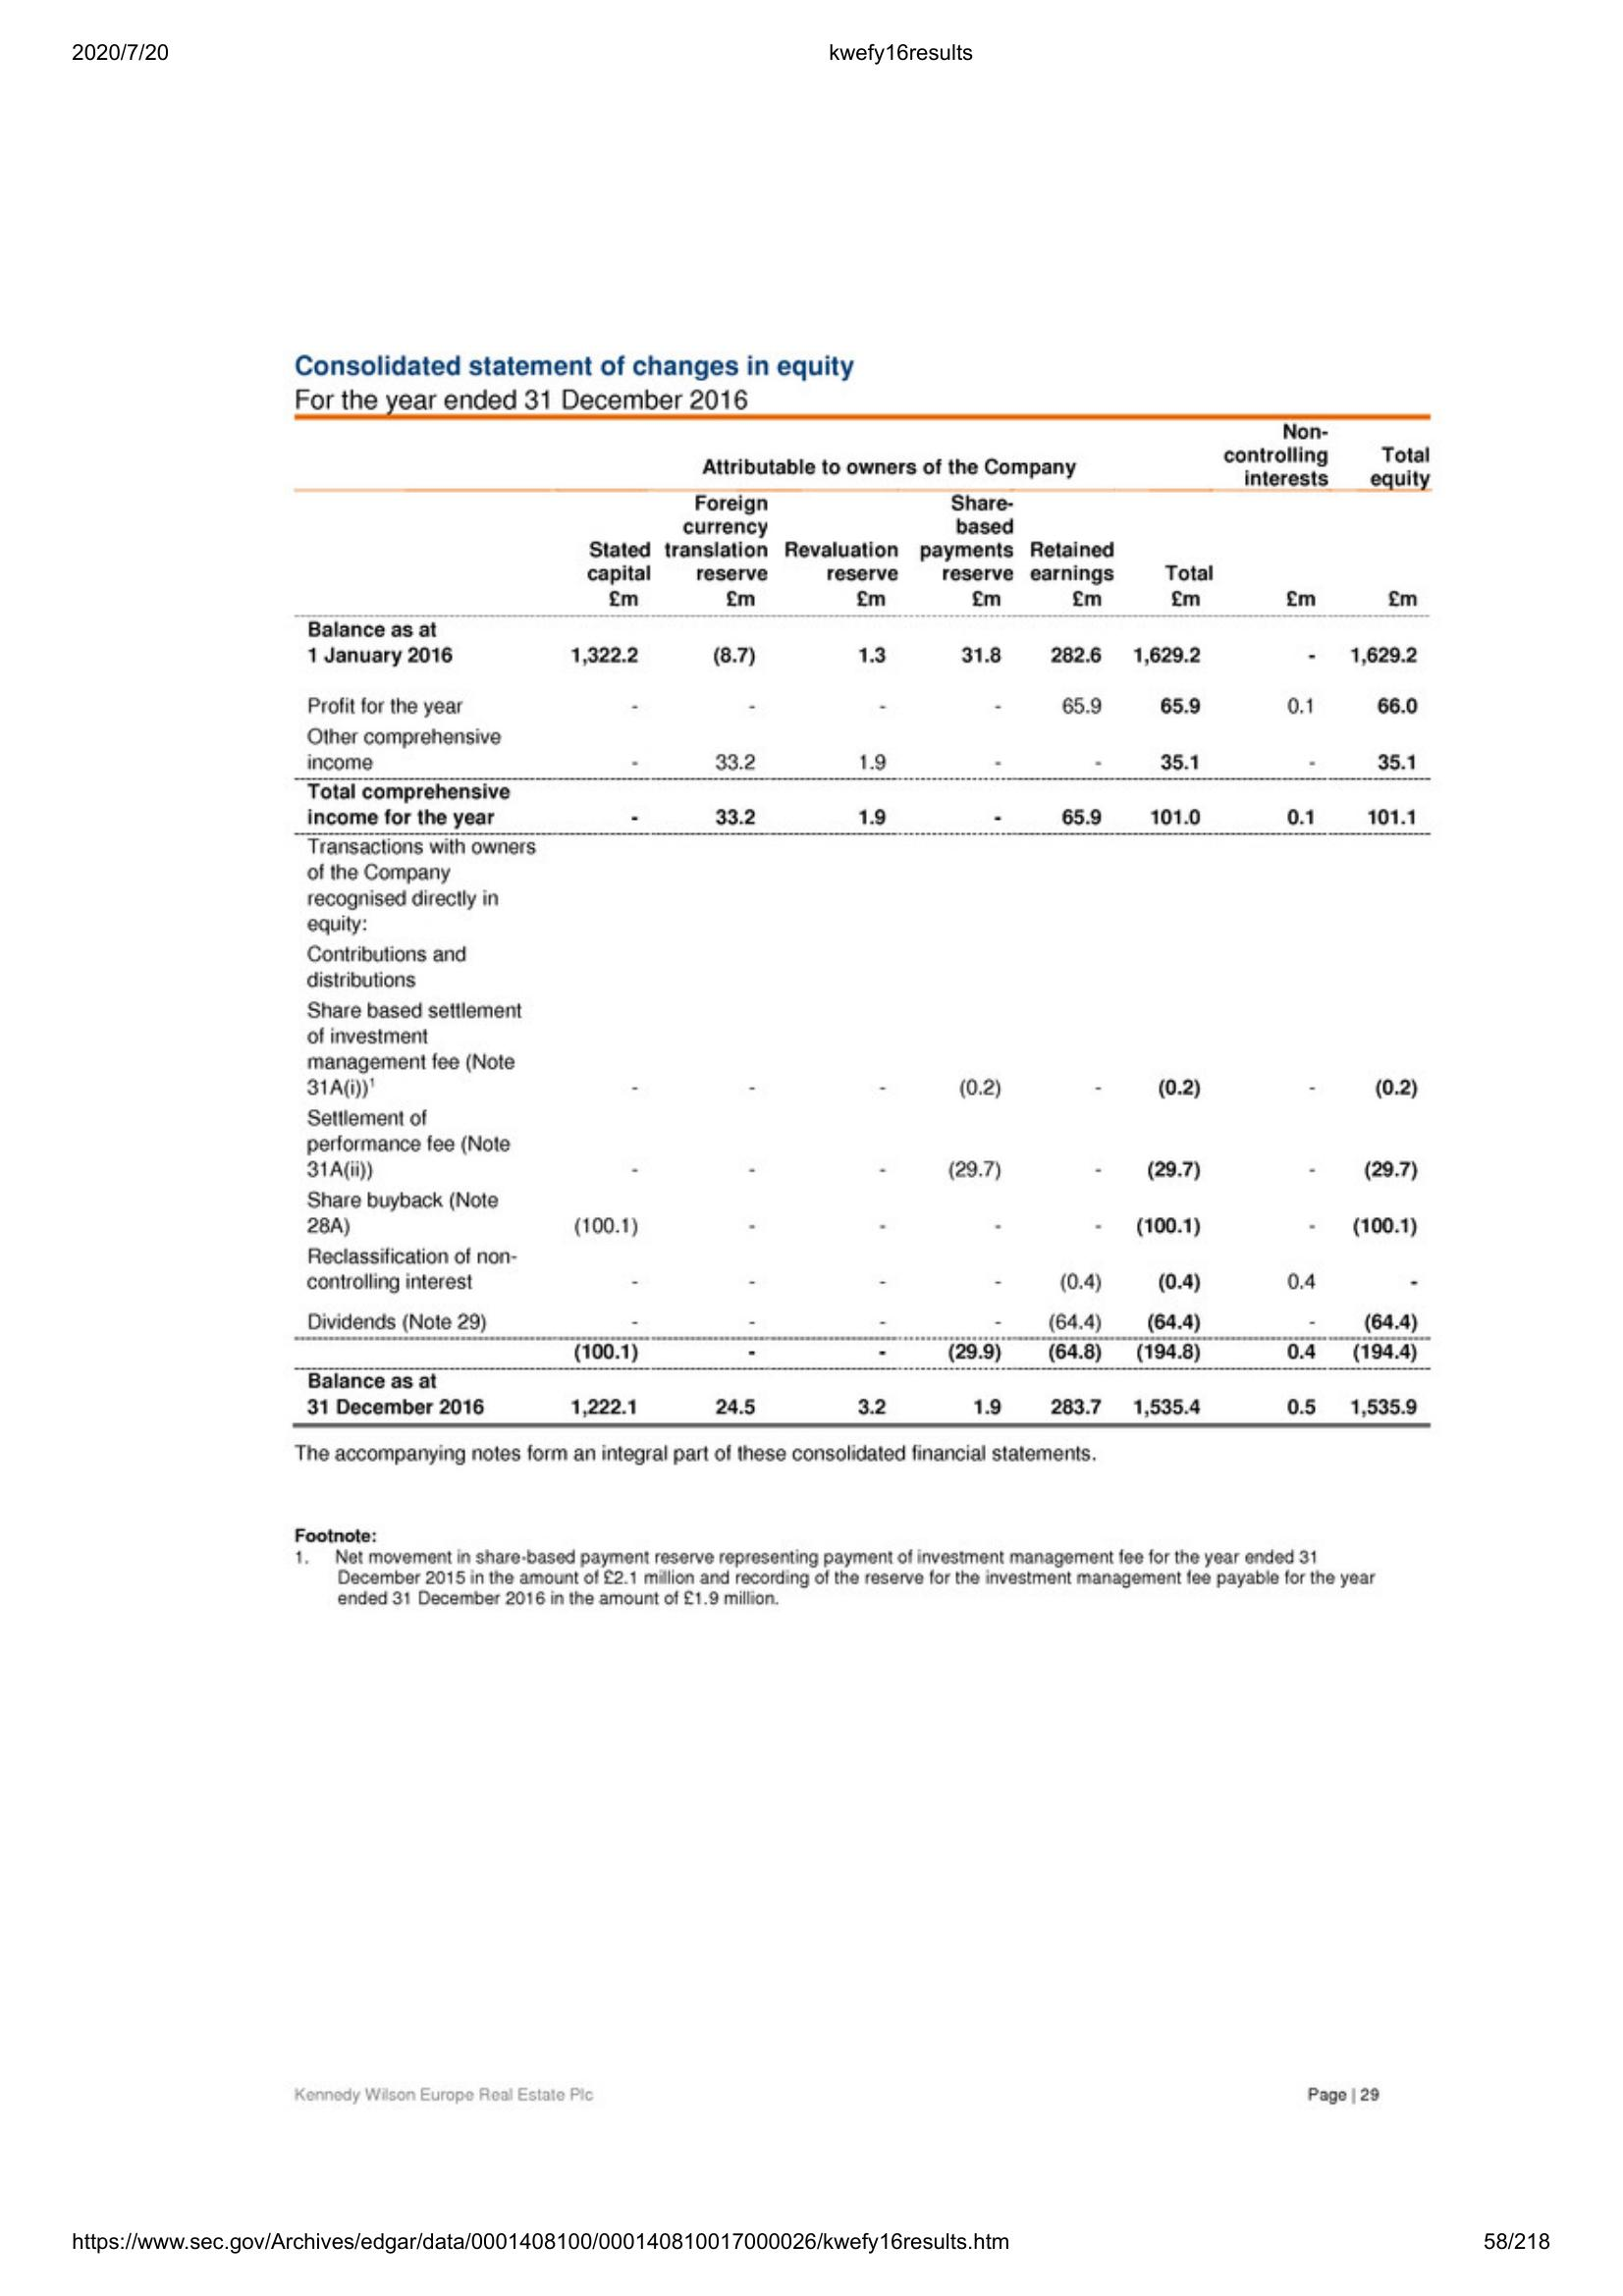table: (288, 407, 1439, 1436)
